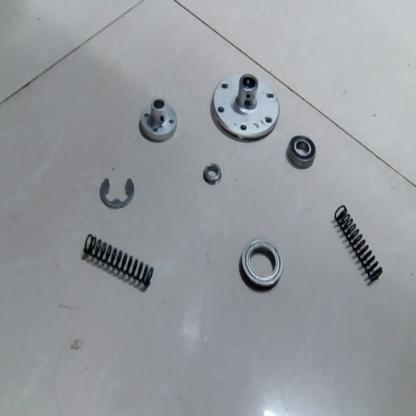FOD: (209, 67, 282, 144), (81, 230, 158, 292), (335, 200, 387, 286), (236, 237, 284, 292), (137, 93, 181, 149), (96, 170, 137, 212), (284, 132, 318, 171), (198, 160, 223, 188)
